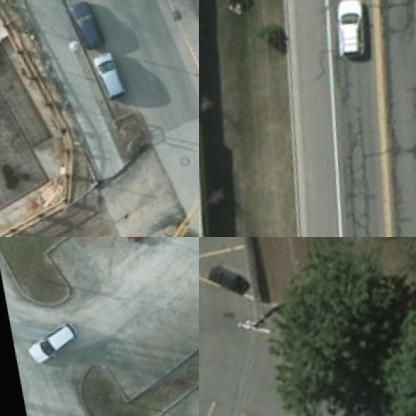car: (16, 321, 76, 370), (328, 2, 373, 63), (85, 57, 124, 110), (65, 6, 101, 62), (204, 265, 249, 306), (99, 237, 142, 254)
